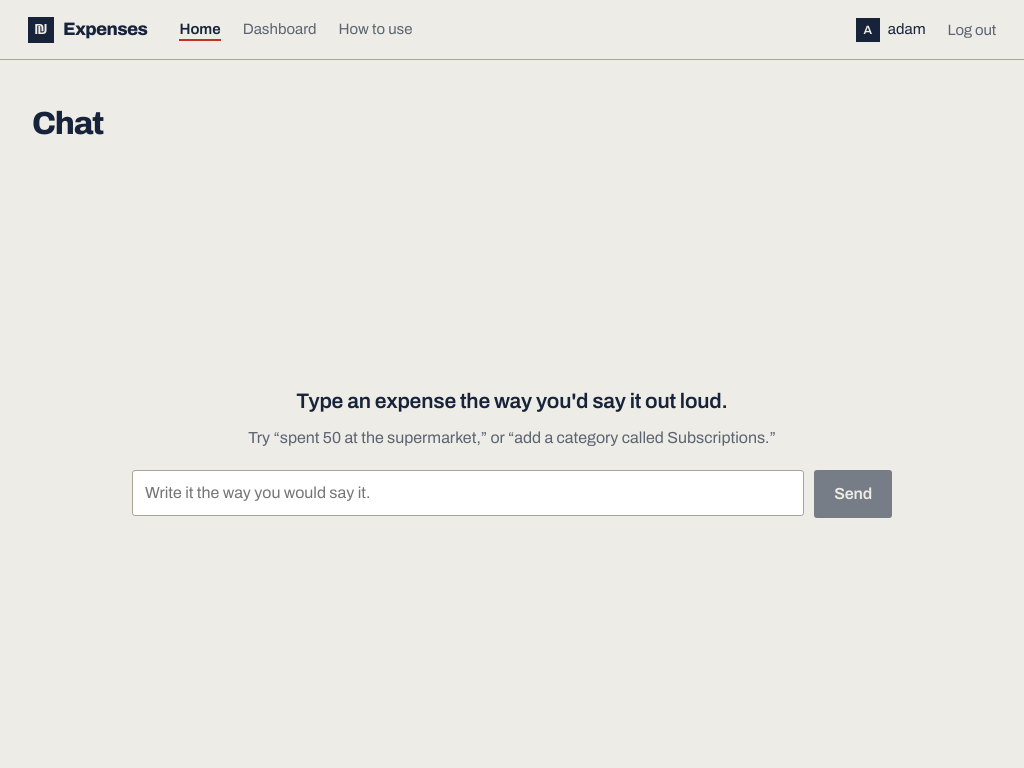
Test case: HomePage chat › shows the reply once the server answers
Type "asdkjh" into the field named "message" at (468, 493), box [132, 470, 804, 516]
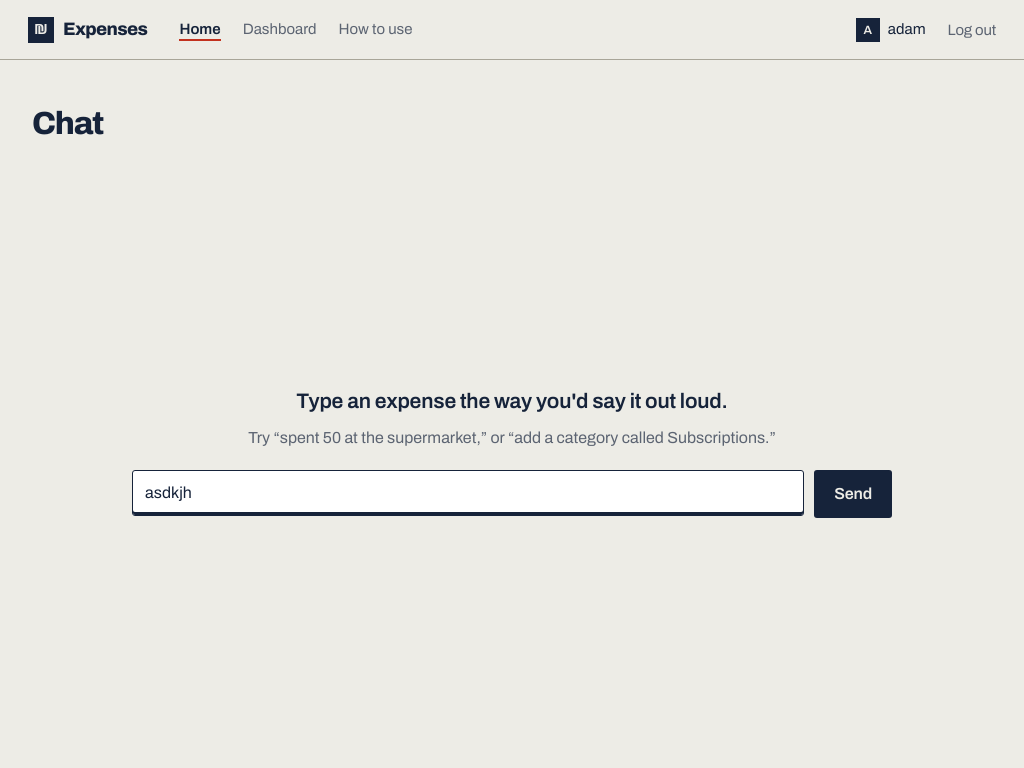
Click the button "Send" at (853, 494), box [814, 470, 892, 518]
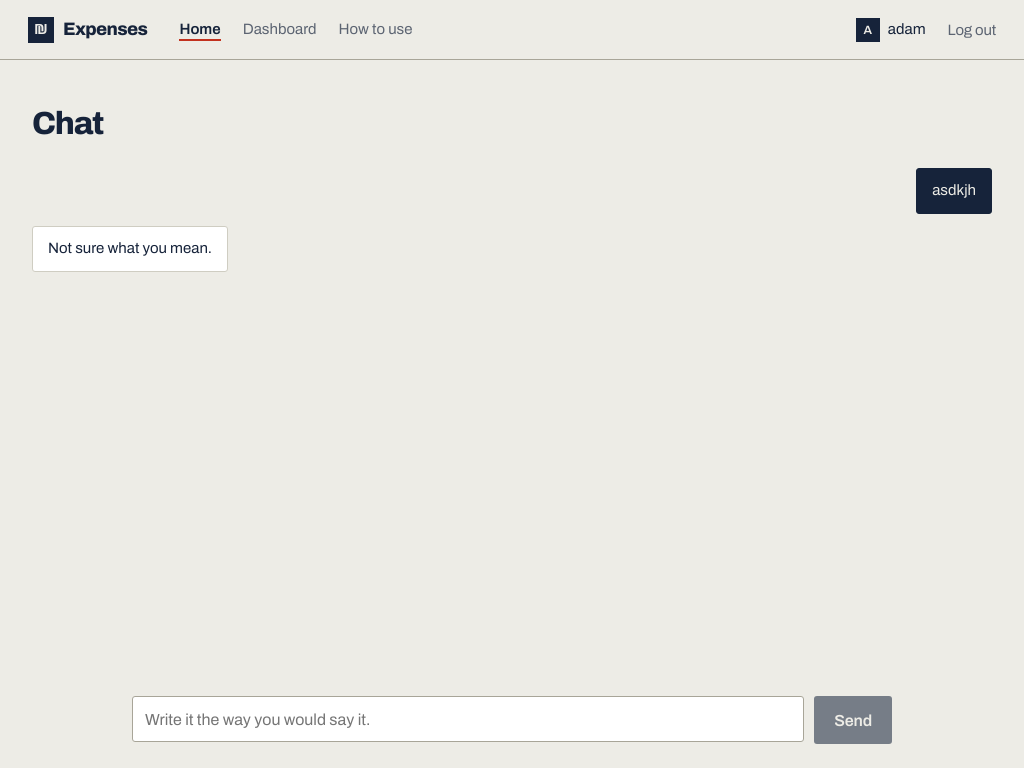
Expected: the list item "Not sure what you mean." is shown, [32, 226, 228, 272]
Expected: the list item "asdkjh" is shown, [916, 168, 992, 214]
